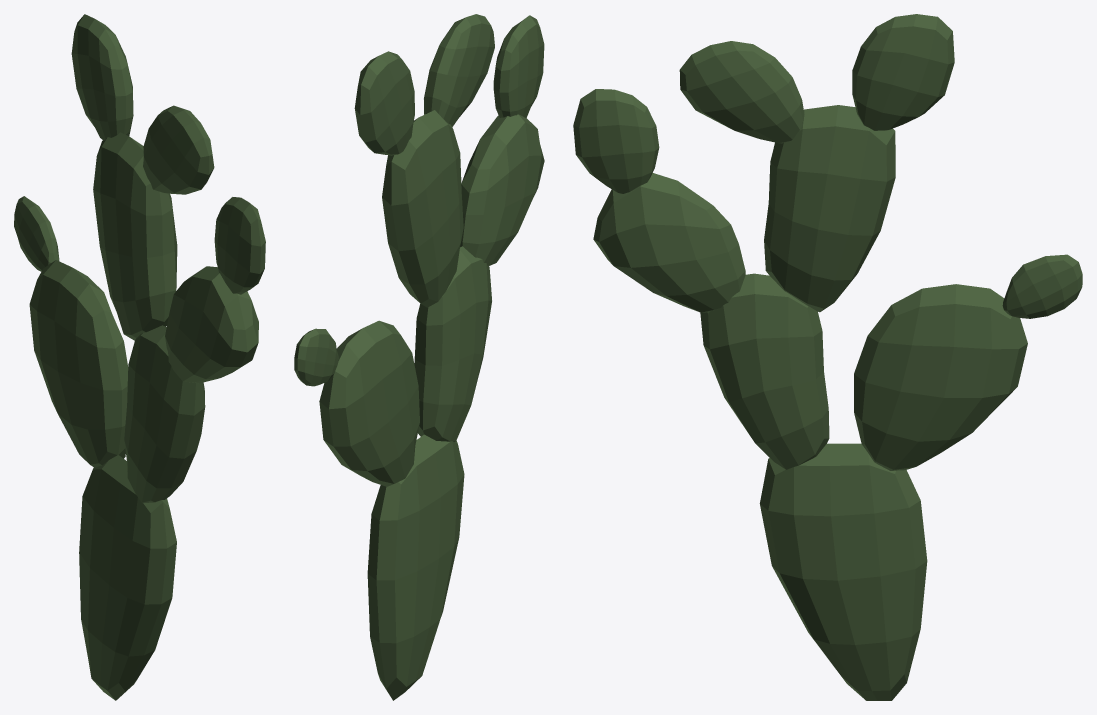
3 views of the same model, side by side, from view 1: azimuth 30°, elevation 25°; view 2: azimuth 150°, elevation 25°; view 3: azimuth 270°, elevation 25° (orthographic). The views are drawn at different scales.
Parts seen in each view (by area): view 1: Cactus_4; view 2: Cactus_4; view 3: Cactus_4.
Part boxes in pixels (left/top/right/bottom): Cactus_4: left=14, top=14, right=265, bottom=700; Cactus_4: left=294, top=14, right=544, bottom=700; Cactus_4: left=573, top=14, right=1082, bottom=700.
Bounding box in the file's own units: 0.11 × 1.37 × 0.919.
